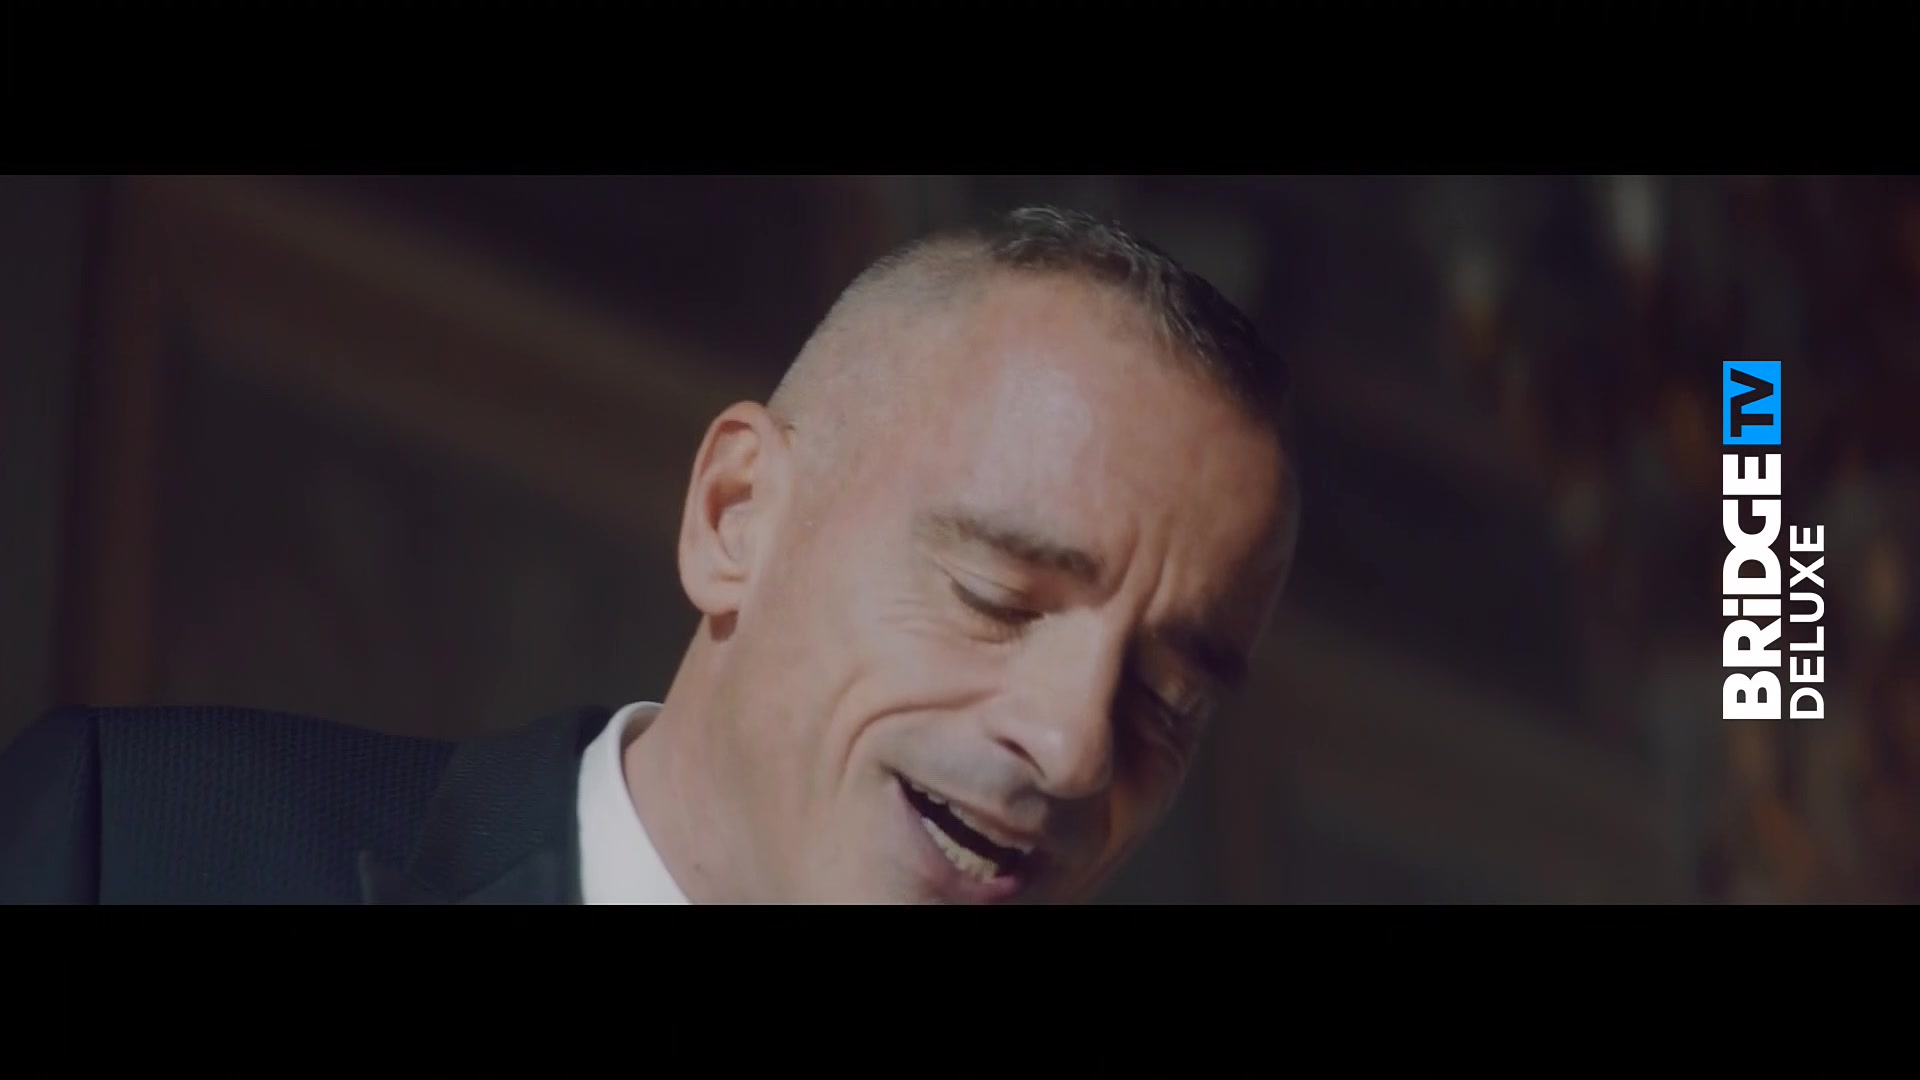Bridge_TV_Deluxe: (1718, 355, 1830, 728)
